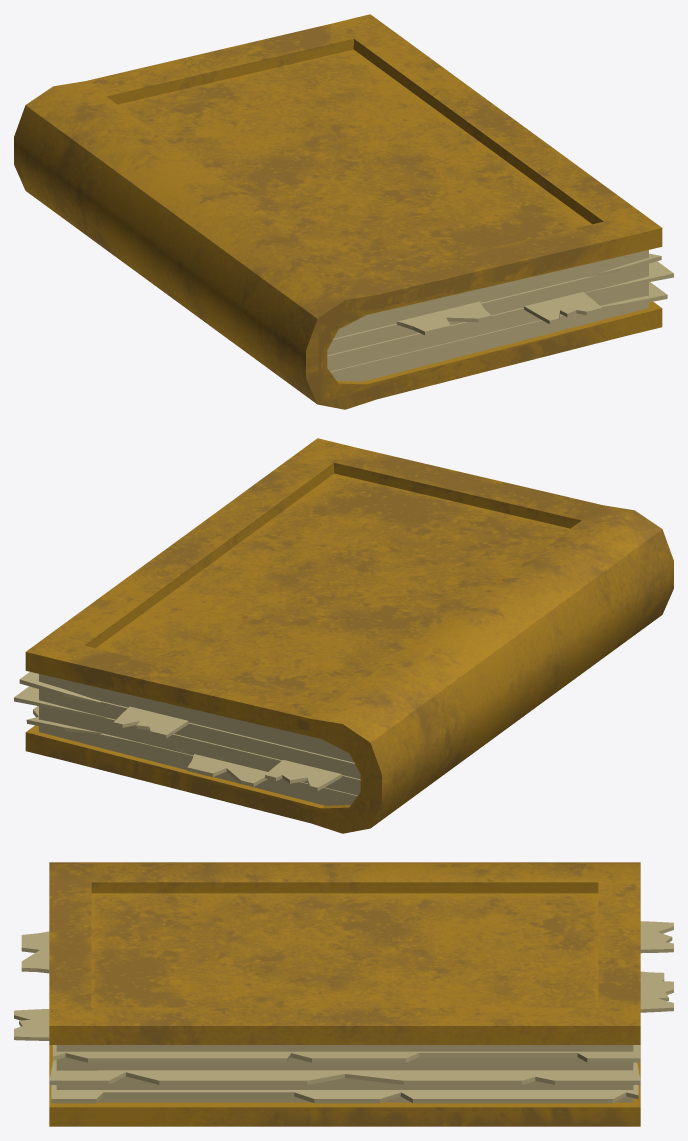
File: book_yellow_1.fbx
3 views of the same model, one above another, from view 1: azimuth 30°, elevation 25°; view 2: azimuth 150°, elevation 25°; view 3: azimuth 270°, elevation 25° (orthographic).
Parts seen in each view (by area): view 1: Plane.032; view 2: Plane.032; view 3: Plane.032.
Boxes of the visible parts, x1=… form: Plane.032: x1=14, y1=14, x2=673, y2=409; Plane.032: x1=14, y1=438, x2=673, y2=833; Plane.032: x1=14, y1=862, x2=673, y2=1126.
Size of the model in its own units: 223 by 63.43 by 341.
